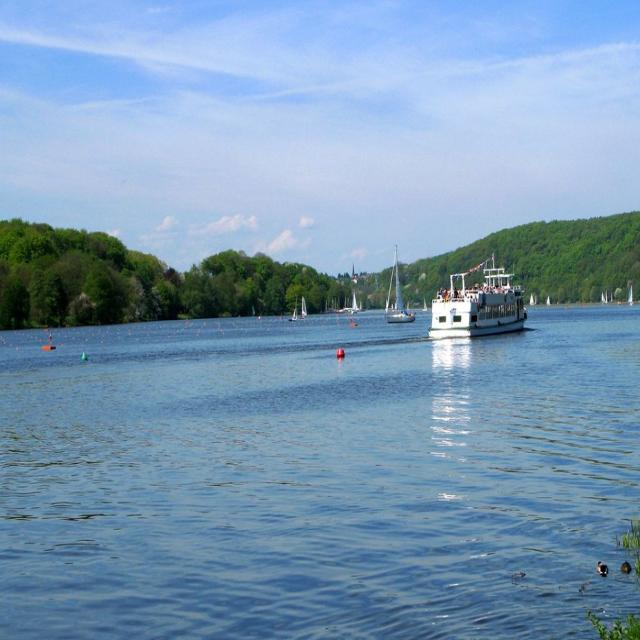buoy: (34, 314, 62, 359), (331, 346, 357, 363)
passenger ship: (438, 253, 531, 342)
sailboat: (377, 230, 413, 328), (346, 286, 368, 317), (299, 282, 313, 319)
